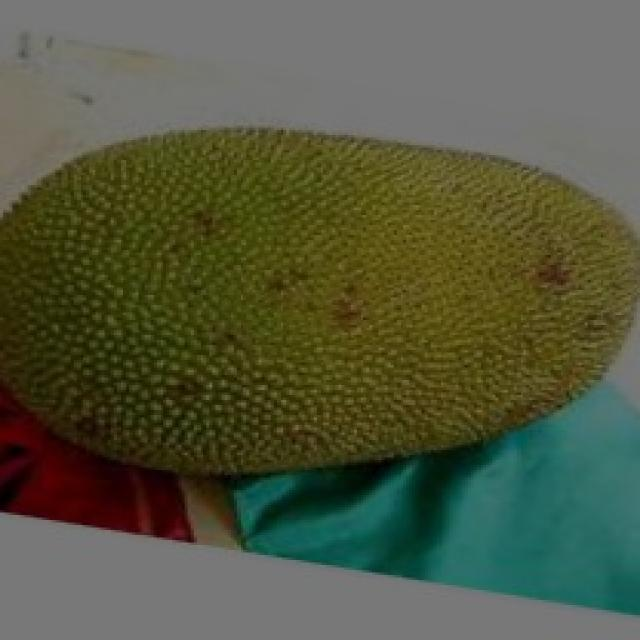Fruit: (0, 105, 397, 527), (255, 105, 640, 457)
